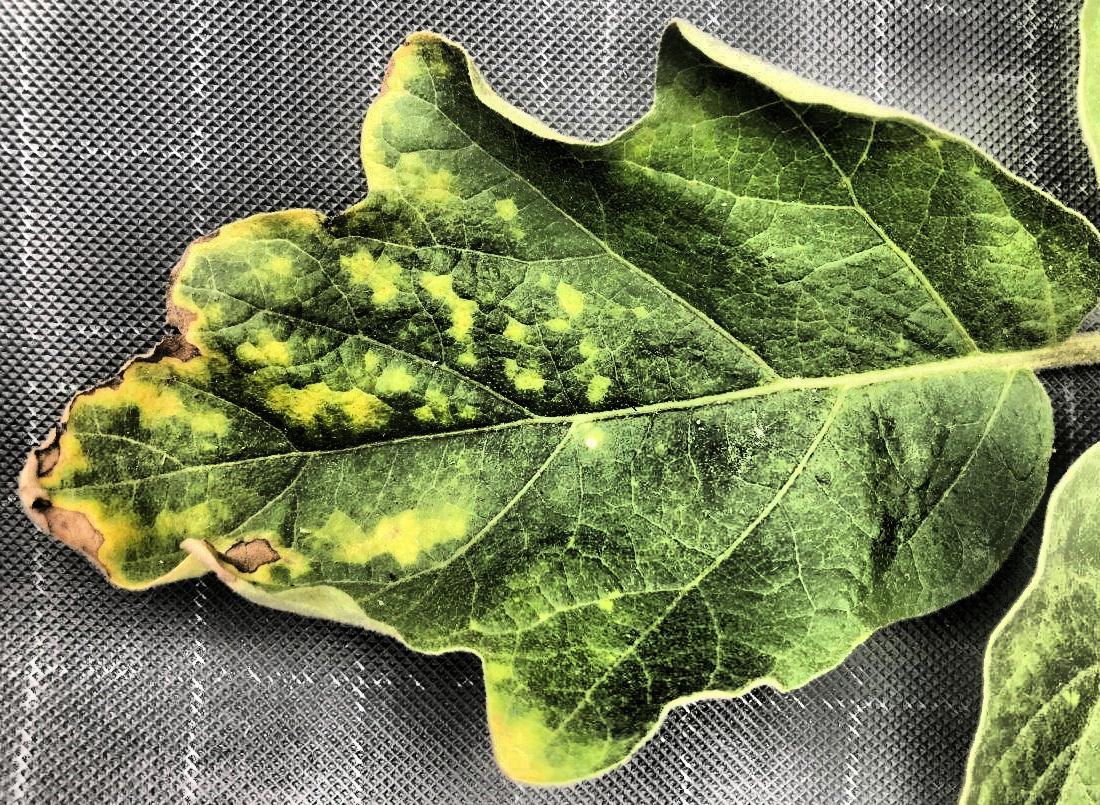Non-critical Stress: (1, 0, 1100, 805)
